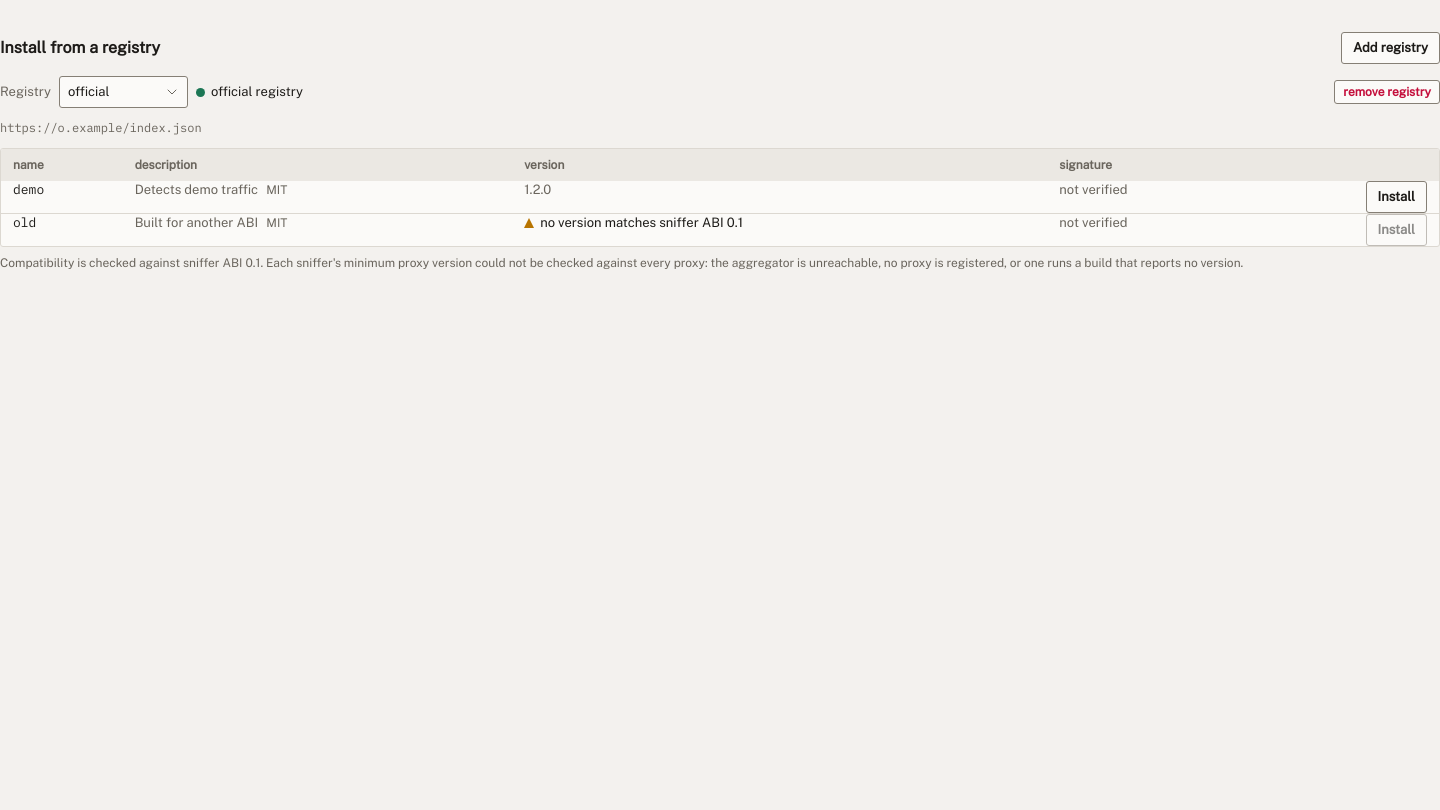
Scenario: RegistrySection › a partial install lists the failed instances with their reason
Click the button "Install" in the row of "Detects demo traffic". click: [1396, 197]
box: [1366, 181, 1427, 213]
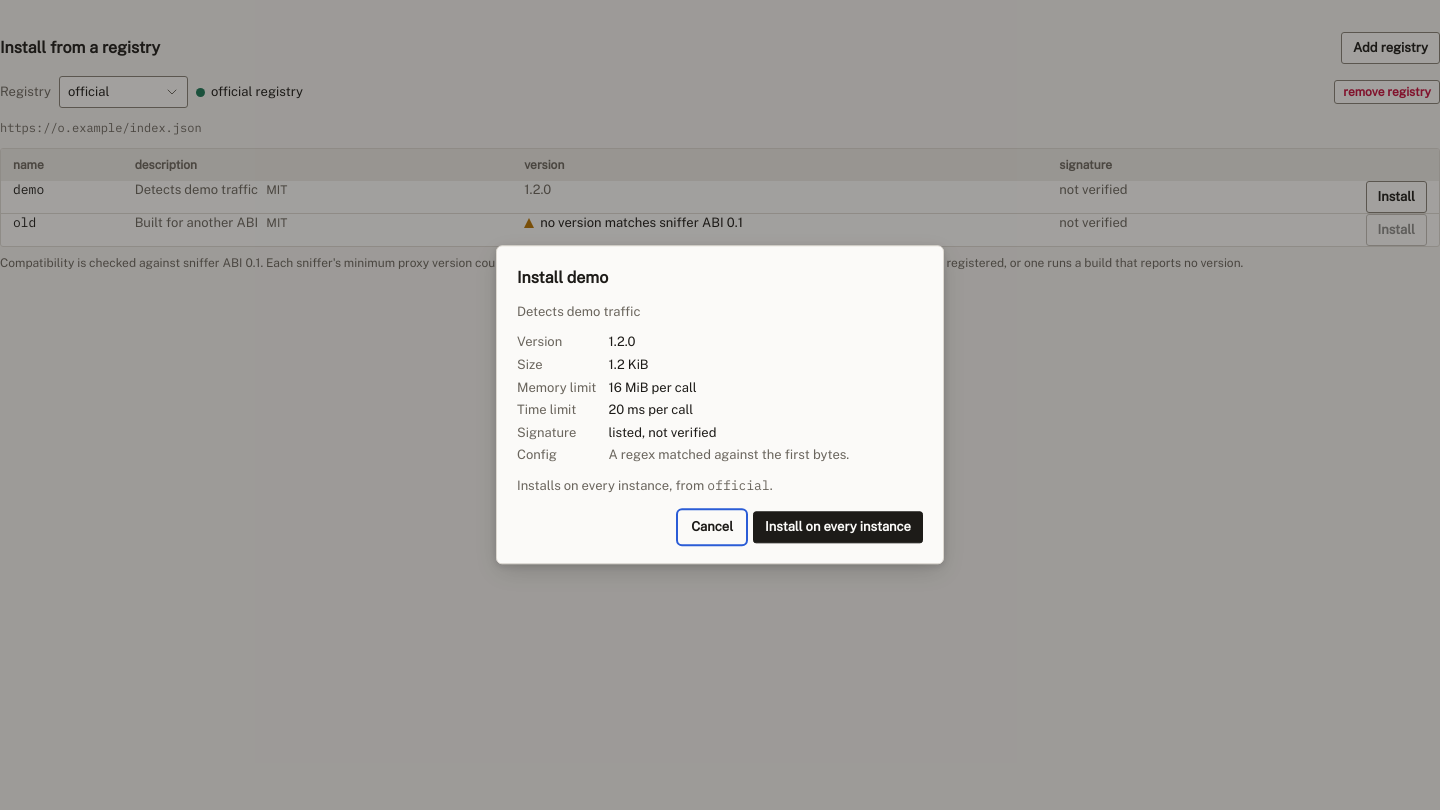
Click the button "Install on every instance". click: [838, 528]
box: [753, 512, 923, 544]
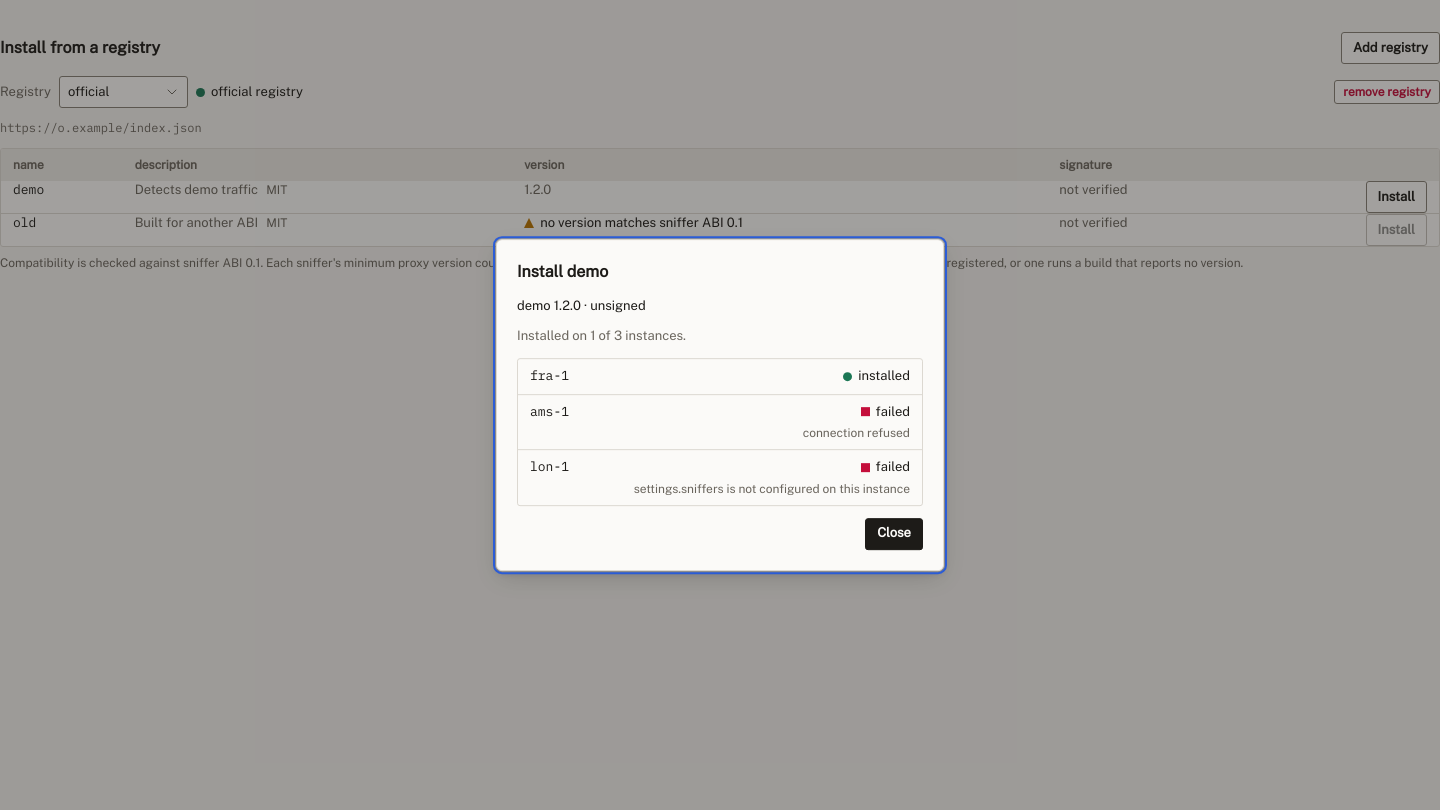
Expected: the text "ams-1" is shown, [530, 403, 569, 421]
Expected: the text "connection refused" is shown, [803, 425, 910, 441]
Expected: the text "settings.sniffers is not configured on this instance" is shown, [634, 481, 910, 497]
